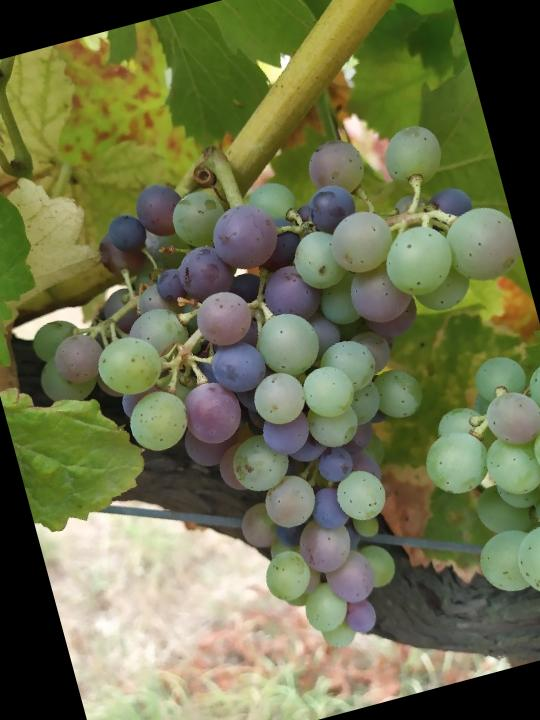grape: (0, 92, 540, 705)
